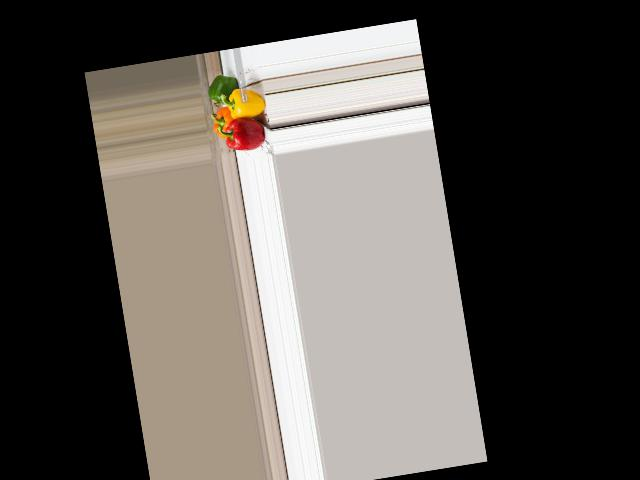bell_pepper: (209, 104, 237, 140)
